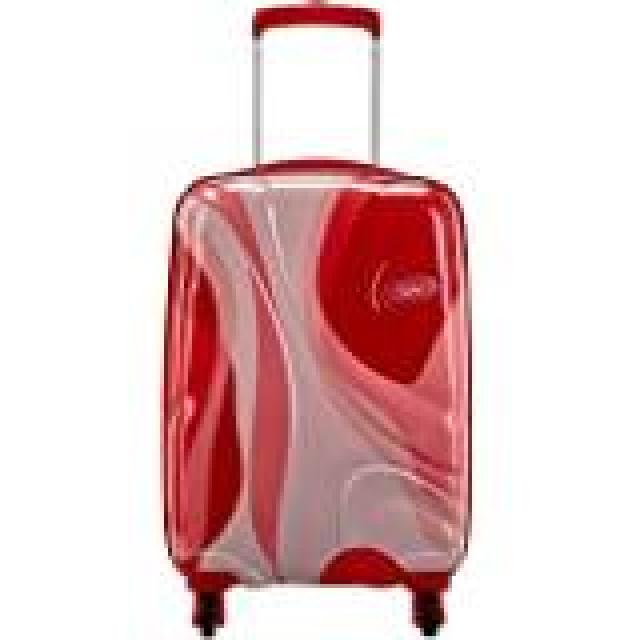luggage: (152, 148, 476, 634)
